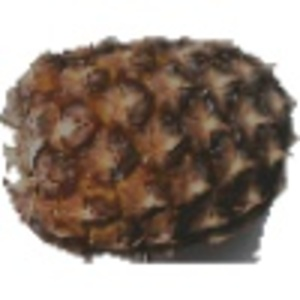abacaxi: (6, 31, 294, 254)
